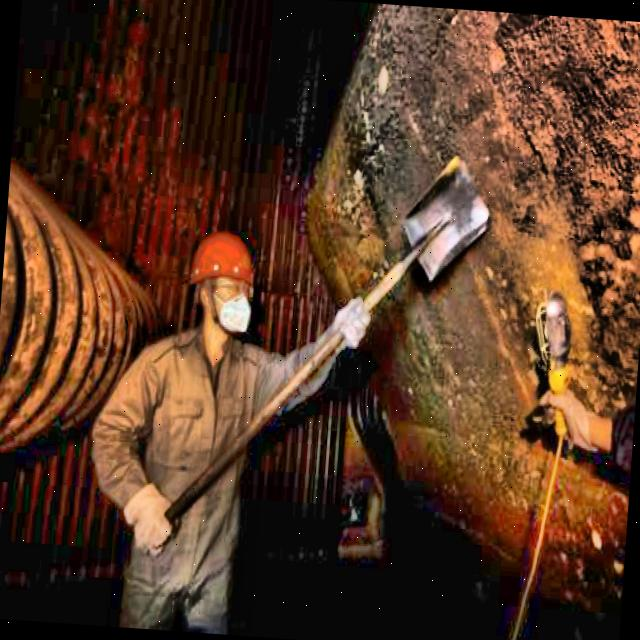helmet: (180, 224, 258, 343)
